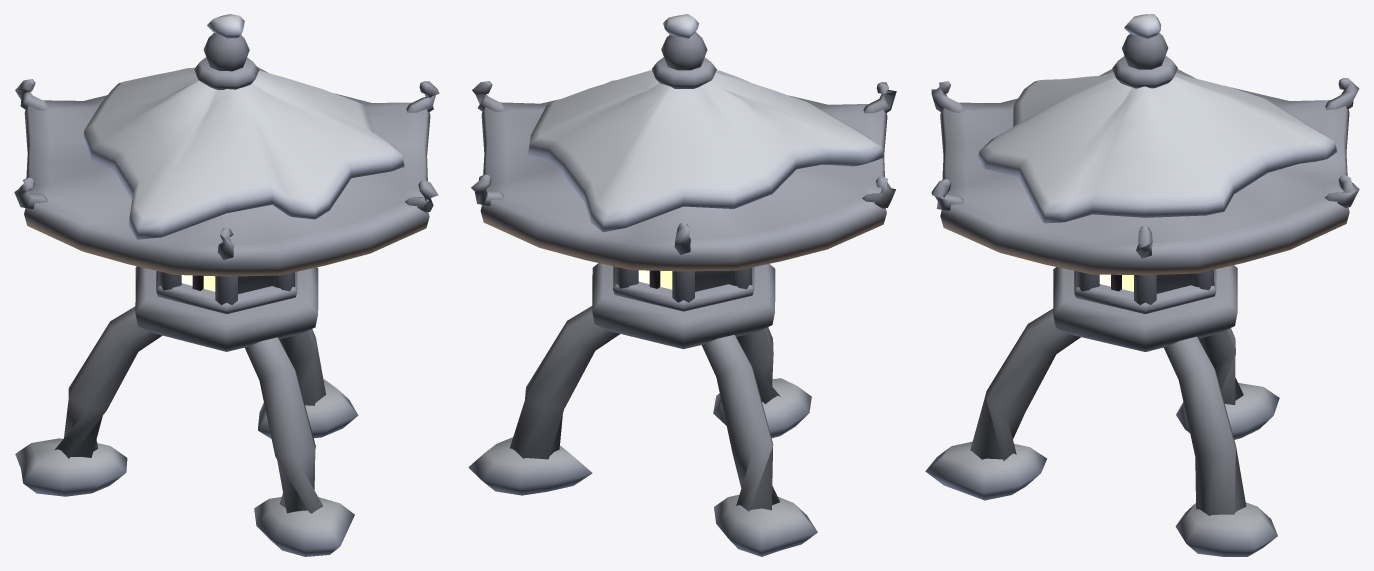
Rendered from rg-onsen-yukimiLantern.glb.
3 views of the same model, side by side, from view 1: azimuth 30°, elevation 25°; view 2: azimuth 150°, elevation 25°; view 3: azimuth 270°, elevation 25° (orthographic).
Parts seen in each view (by area): view 1: body; view 2: body; view 3: body.
Part boxes in pixels (x1=…): body: x1=14, y1=14, x2=439, y2=556; body: x1=468, y1=14, x2=896, y2=556; body: x1=925, y1=14, x2=1359, y2=556.
Size of the model in its own units: 1.62 by 1.72 by 1.43.
